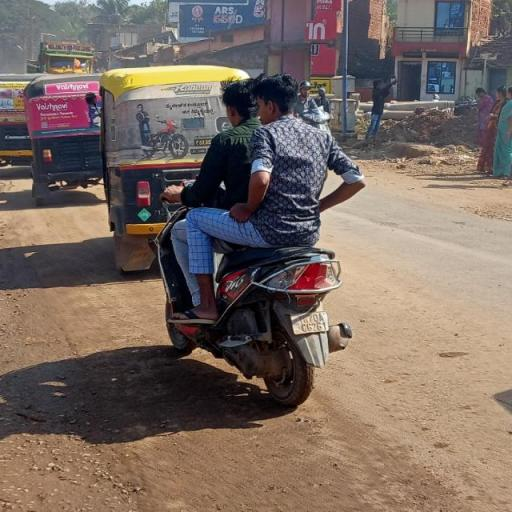bike: (140, 72, 372, 413)
numberplate: (287, 308, 335, 336)
withouthelmet: (260, 78, 300, 120), (223, 80, 258, 126)
